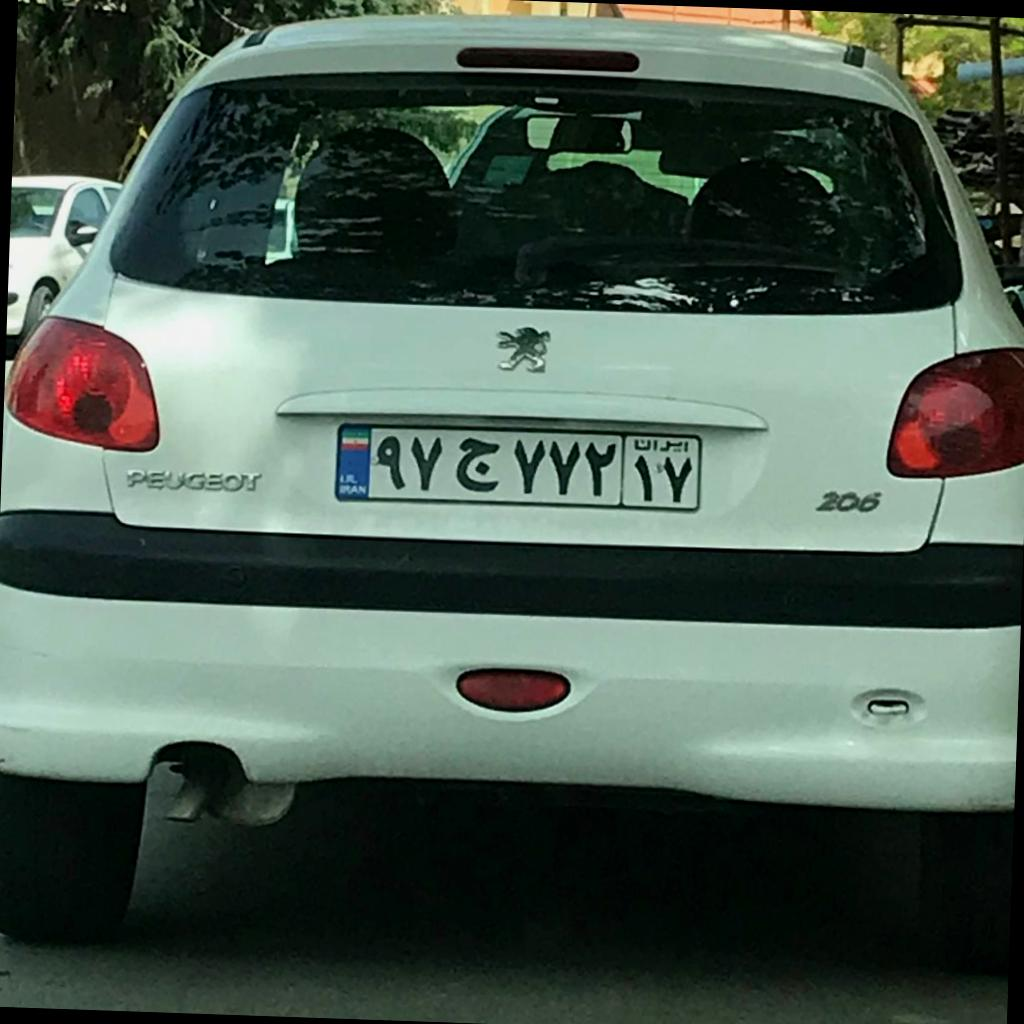Plates: (335, 425, 698, 507)
